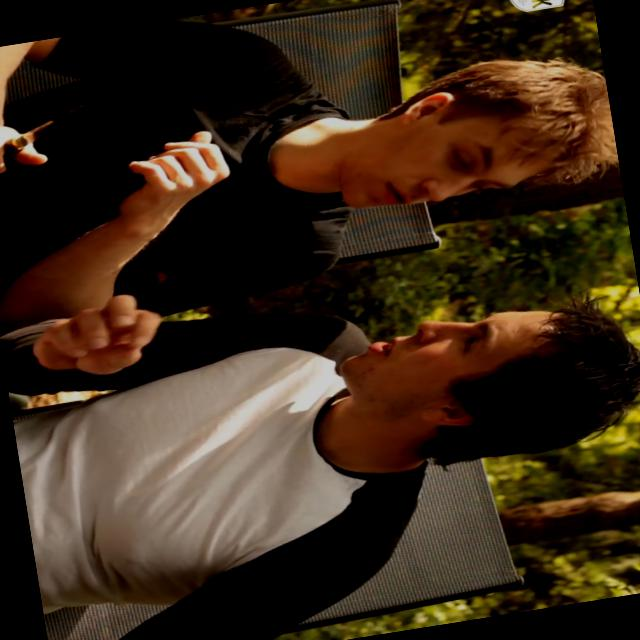knife: (0, 91, 113, 192)
